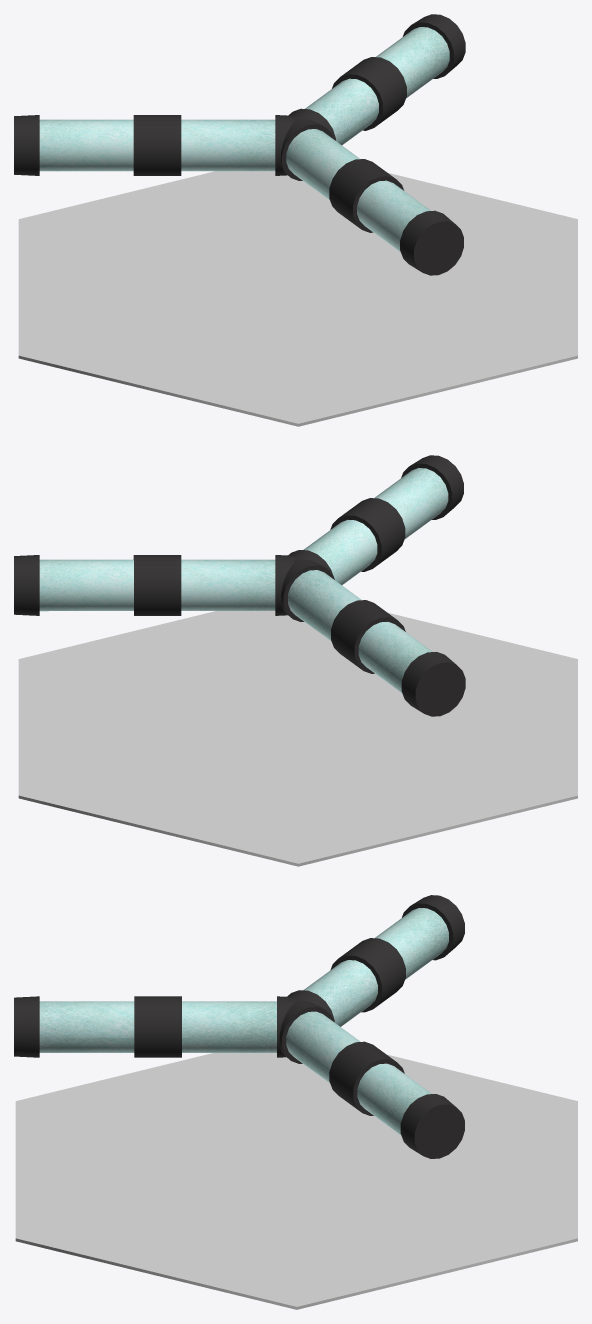
The model's file is tri4.FBX.
The picture shows the model from 3 angles, top to bottom: view 1: azimuth 30°, elevation 25°; view 2: azimuth 150°, elevation 25°; view 3: azimuth 270°, elevation 25°; orthographic projection.
Parts seen in each view (by area): view 1: Cylinder043, Cylinder042, Cylinder040, Cylinder041; view 2: Cylinder043, Cylinder041, Cylinder042, Cylinder040; view 3: Cylinder043, Cylinder040, Cylinder041, Cylinder042.
Boxes of the visible parts, x1,y1,x2,y2 form: Cylinder043: (18, 171, 577, 426); Cylinder042: (14, 115, 300, 175); Cylinder040: (281, 116, 463, 275); Cylinder041: (288, 14, 465, 145); Cylinder043: (18, 611, 577, 866); Cylinder041: (14, 555, 300, 615); Cylinder042: (281, 559, 465, 716); Cylinder040: (288, 455, 463, 584); Cylinder043: (15, 1053, 577, 1309); Cylinder040: (14, 996, 302, 1057); Cylinder041: (279, 1000, 464, 1158); Cylinder042: (287, 895, 464, 1026).
Size of the model in its own units: 100 by 29.5 by 86.87.
2 materials, 2 textured.
